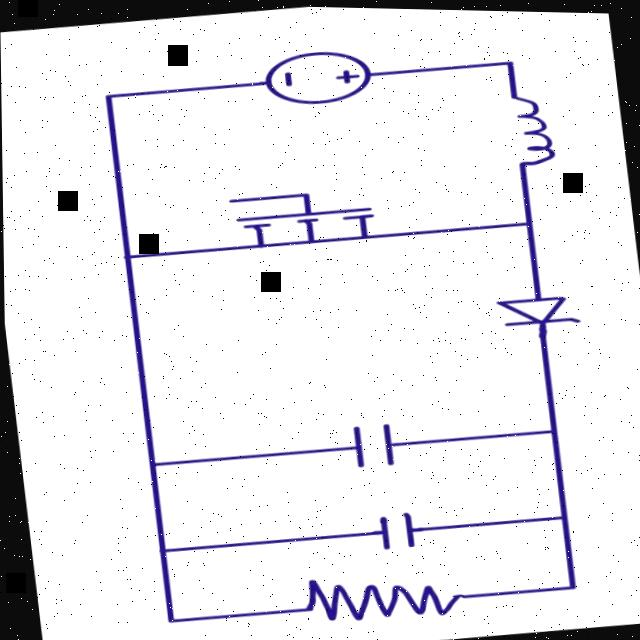capacitor: (318, 404, 423, 478), (346, 495, 437, 560)
diode: (480, 273, 594, 342)
inductor: (479, 74, 580, 179)
mosfet: (202, 163, 395, 276)
resistor: (269, 555, 487, 636)
source: (236, 34, 384, 119)
